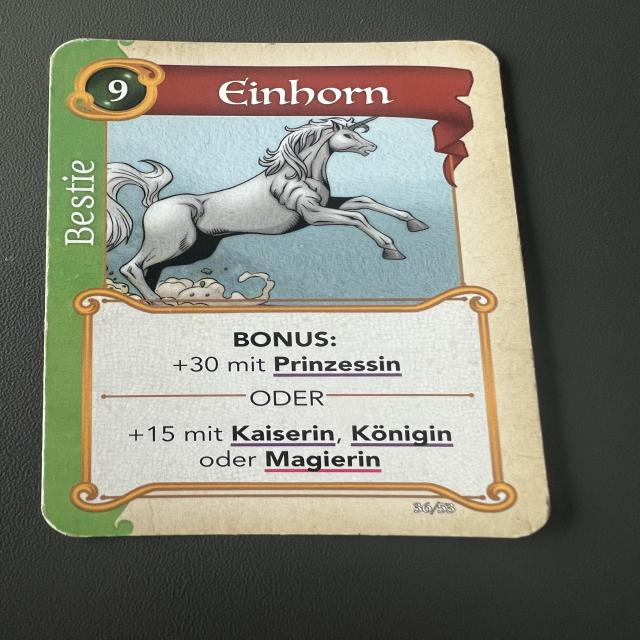Unicorn: (39, 36, 560, 544)
